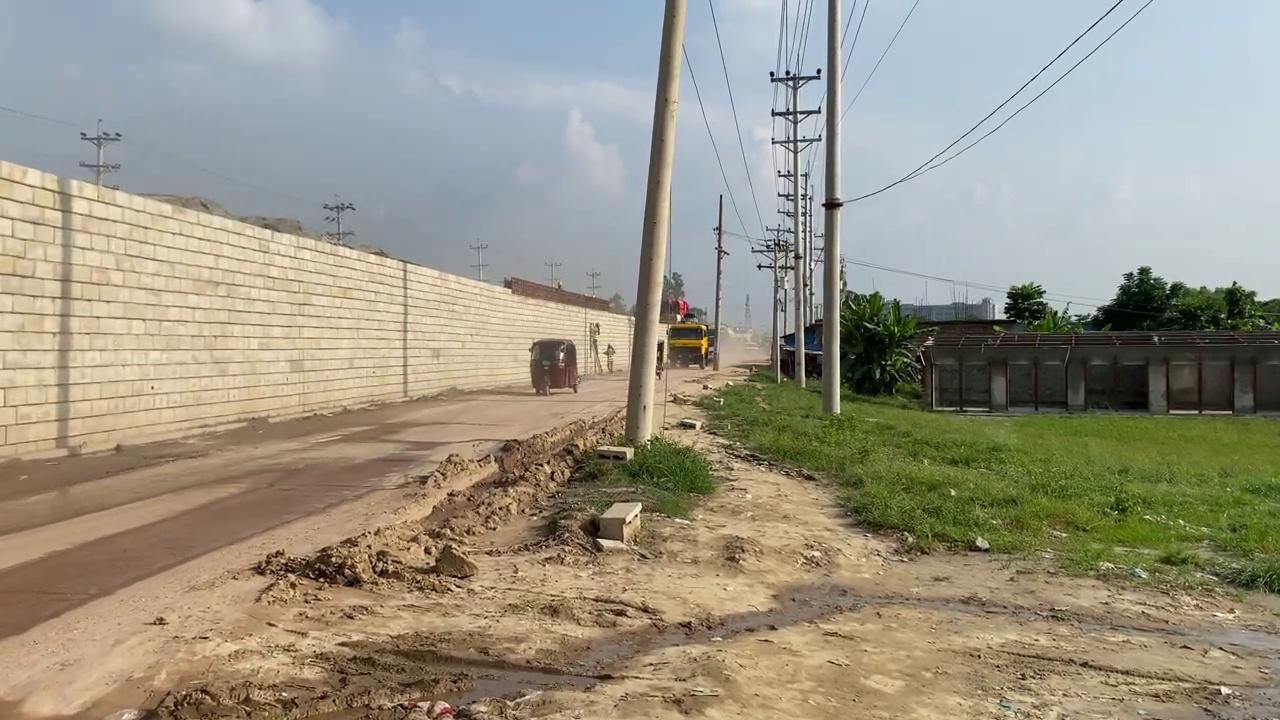Car: (528, 338, 579, 395)
Fence: (918, 329, 1278, 415)
Obstacle: (596, 500, 642, 543), (595, 444, 634, 462)
Pole: (624, 0, 687, 447), (820, 1, 842, 415), (712, 193, 723, 371)
Rickshaw: (2, 360, 1277, 718)
Traffic-sign: (838, 289, 939, 396), (1003, 280, 1047, 326)
Tree: (665, 320, 709, 369)
Upstairs: (0, 157, 642, 459)
